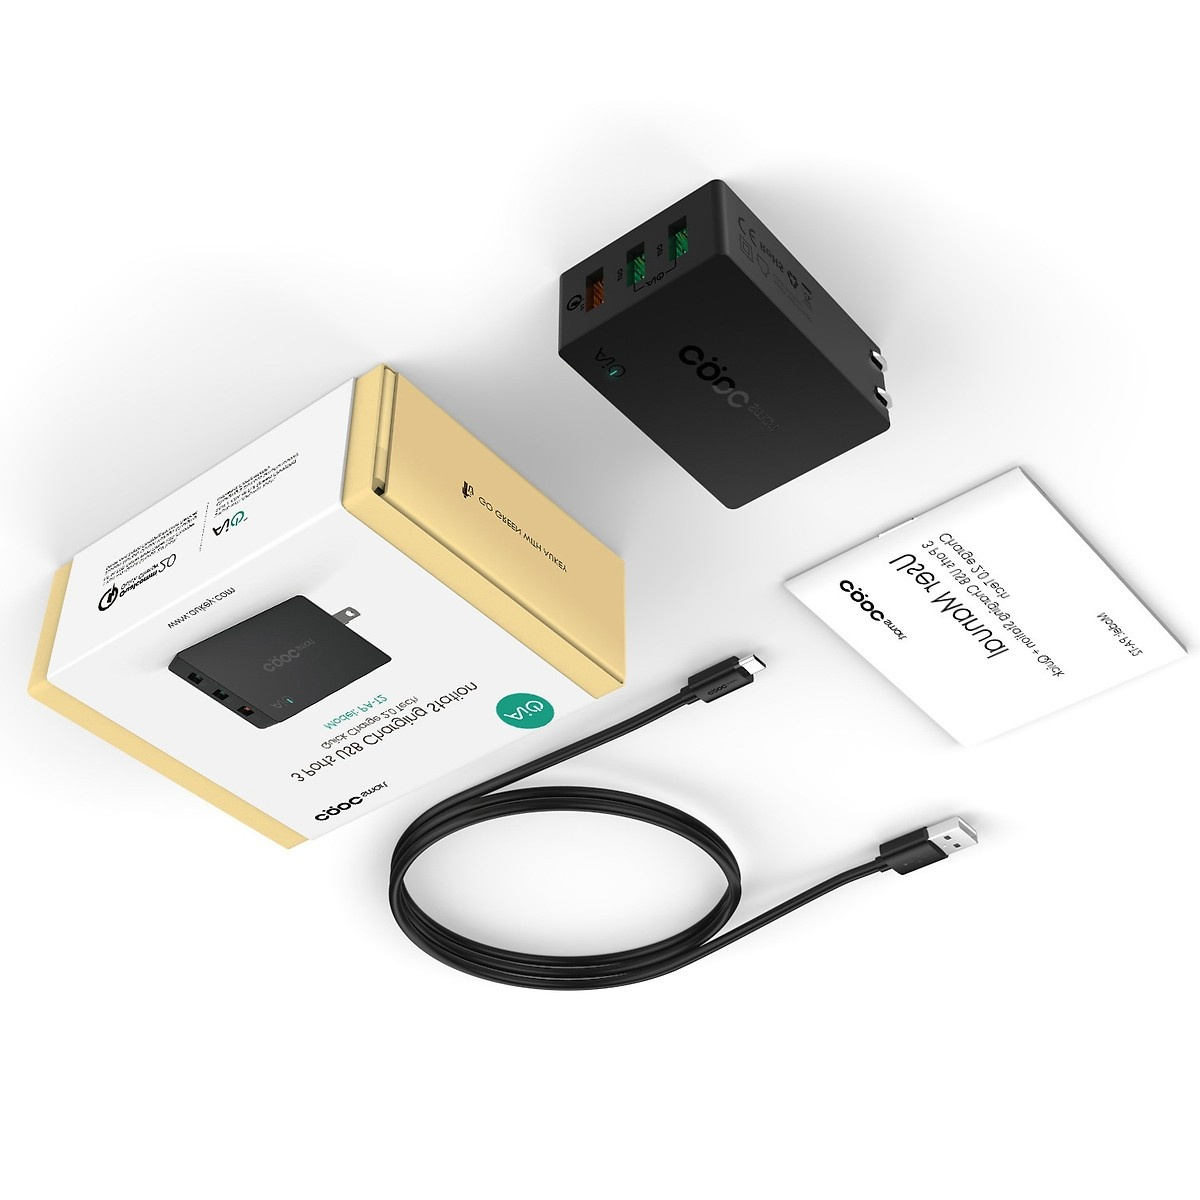Aukey: (580, 279, 899, 487), (151, 531, 279, 652)
